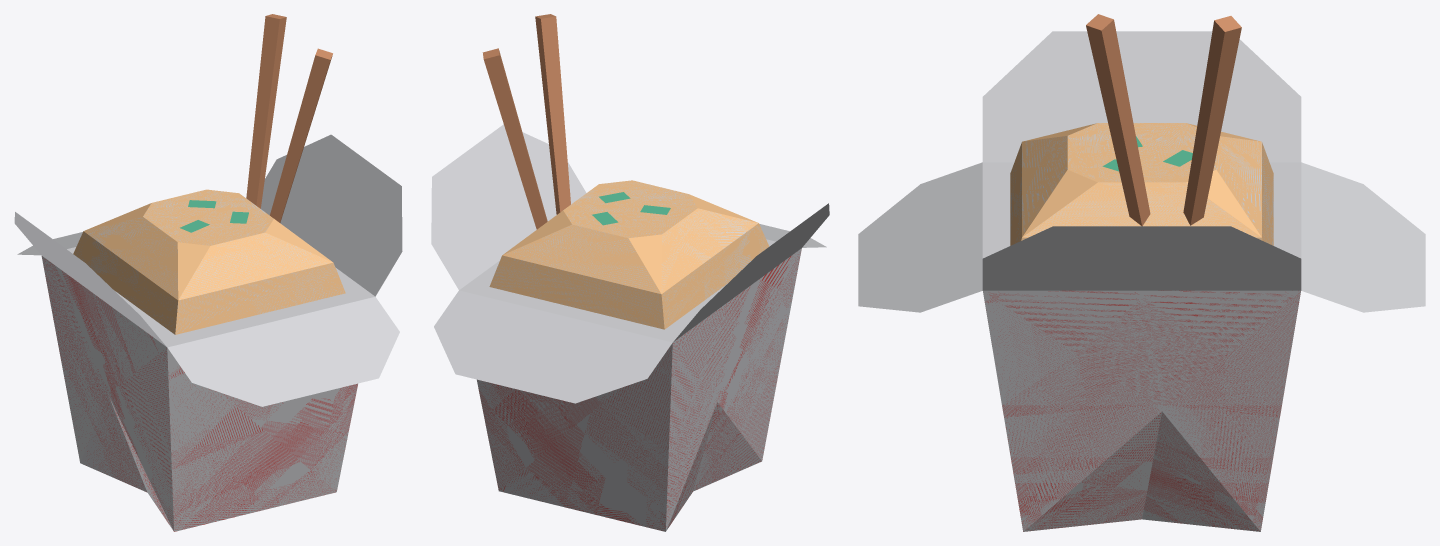
Rendered from chinese.obj.
3 renders of one model, left to right at view 1: azimuth 30°, elevation 25°; view 2: azimuth 150°, elevation 25°; view 3: azimuth 270°, elevation 25°, orthographic. The views are drawn at different scales.
Parts seen in each view (by area): view 1: chinese, chopstick; view 2: chinese, chopstick; view 3: chinese, chopstick.
Boxes of the visible parts, left/top/right/bottom form: chinese: left=14, top=134, right=402, bottom=531; chopstick: left=246, top=14, right=332, bottom=222; chinese: left=431, top=124, right=829, bottom=531; chopstick: left=482, top=14, right=570, bottom=229; chinese: left=858, top=31, right=1425, bottom=531; chopstick: left=1086, top=14, right=1241, bottom=226.
Bounding box in the file's own units: 0.4539 × 0.5671 × 0.5575.
